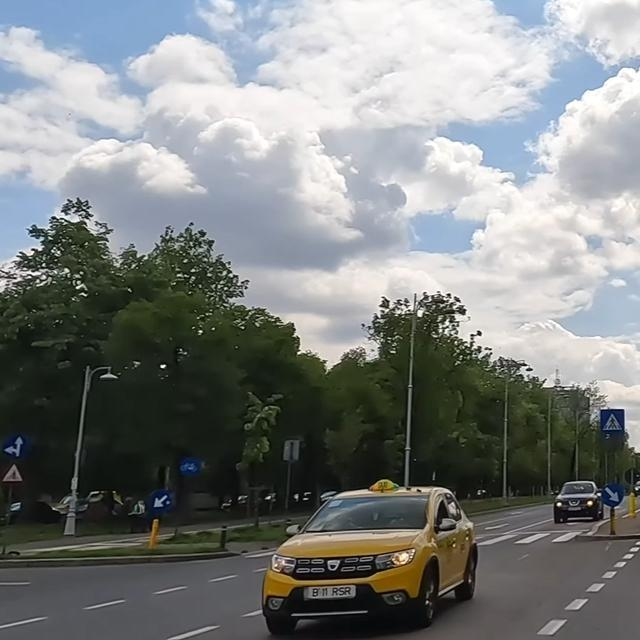info_crosswalk: (599, 408, 625, 432)
